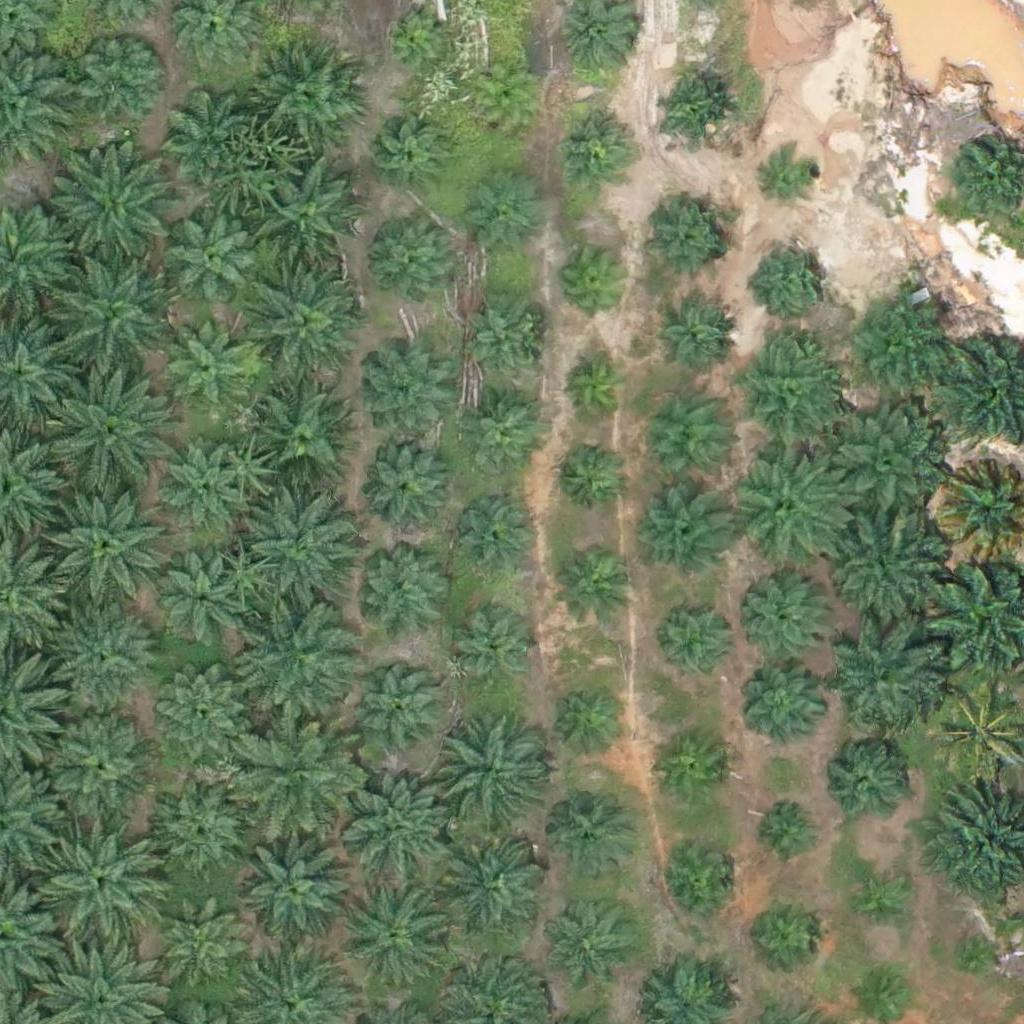Kelapa_Sawit: (44, 811, 169, 937), (726, 439, 851, 565), (430, 712, 555, 838), (334, 760, 459, 886), (56, 255, 181, 381), (48, 367, 173, 493), (47, 481, 172, 607), (826, 505, 951, 631), (823, 611, 948, 737), (52, 150, 177, 275), (818, 404, 943, 529), (251, 271, 364, 384), (236, 605, 349, 718), (240, 725, 353, 838), (48, 609, 161, 722), (243, 490, 355, 604), (843, 287, 955, 401), (237, 832, 349, 945), (733, 339, 845, 452), (43, 710, 155, 823), (740, 564, 840, 665), (260, 170, 360, 271), (251, 382, 351, 483), (435, 835, 535, 935), (344, 883, 444, 983), (154, 888, 254, 988), (632, 395, 732, 495), (254, 47, 354, 147), (147, 661, 247, 761), (646, 200, 734, 288), (544, 897, 632, 985), (738, 658, 826, 746), (458, 393, 546, 481), (455, 610, 543, 698), (364, 350, 452, 438), (361, 439, 449, 527), (358, 667, 446, 755), (157, 780, 245, 868), (161, 562, 249, 650), (171, 217, 259, 305), (77, 33, 165, 121), (370, 219, 457, 308), (650, 297, 737, 385), (641, 485, 728, 573), (457, 301, 544, 389), (449, 495, 536, 583), (355, 550, 442, 638), (544, 790, 631, 878), (158, 438, 245, 526), (163, 323, 250, 411), (162, 90, 249, 178), (818, 738, 905, 826), (654, 75, 729, 151), (557, 550, 632, 626), (552, 439, 627, 515), (558, 351, 633, 427), (756, 238, 831, 314), (657, 842, 732, 918), (371, 118, 446, 193), (468, 182, 543, 257), (555, 109, 630, 184), (561, 242, 636, 317), (554, 686, 629, 761), (654, 726, 729, 801), (663, 606, 738, 681), (745, 900, 820, 975), (848, 873, 911, 936), (472, 66, 535, 129), (761, 147, 823, 210), (755, 796, 817, 859), (381, 6, 443, 68), (947, 929, 997, 979)
